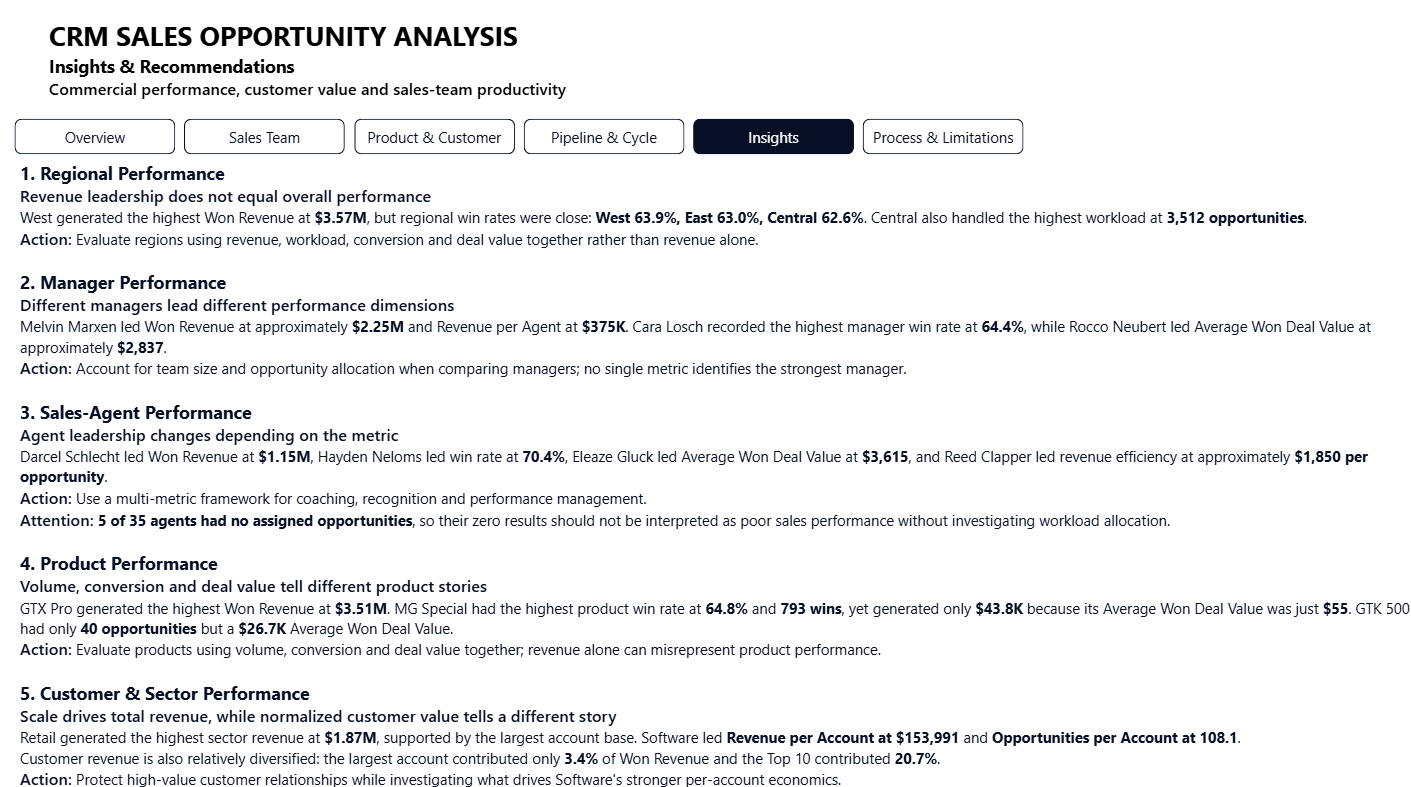

Layout of this report page (visuals, bound fields, positions):
{"tool":"powerbi","page":{"name":"Insights","canvas":[1280,720],"ordinal":8},"visuals":[{"type":"textbox","box":[0,16,1280,84],"z":0},{"type":"pageNavigator","box":[16,112,912,32],"z":1000},{"type":"textbox","box":[16,144,1264,579],"z":2000}]}

Visuals, with their boxes in screenshot pixels (x1, y1, x2, y2), scaled from the page's 1280x720 canvas onto the 1411x787 screenshot:
textbox: bbox=[0, 17, 1410, 109]
pageNavigator: bbox=[18, 122, 1023, 157]
textbox: bbox=[18, 157, 1410, 786]
